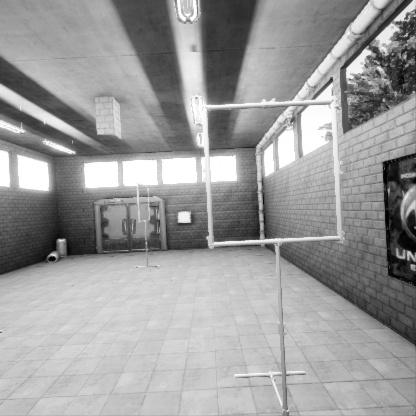gate: (206, 174, 357, 325), (136, 195, 150, 234)
